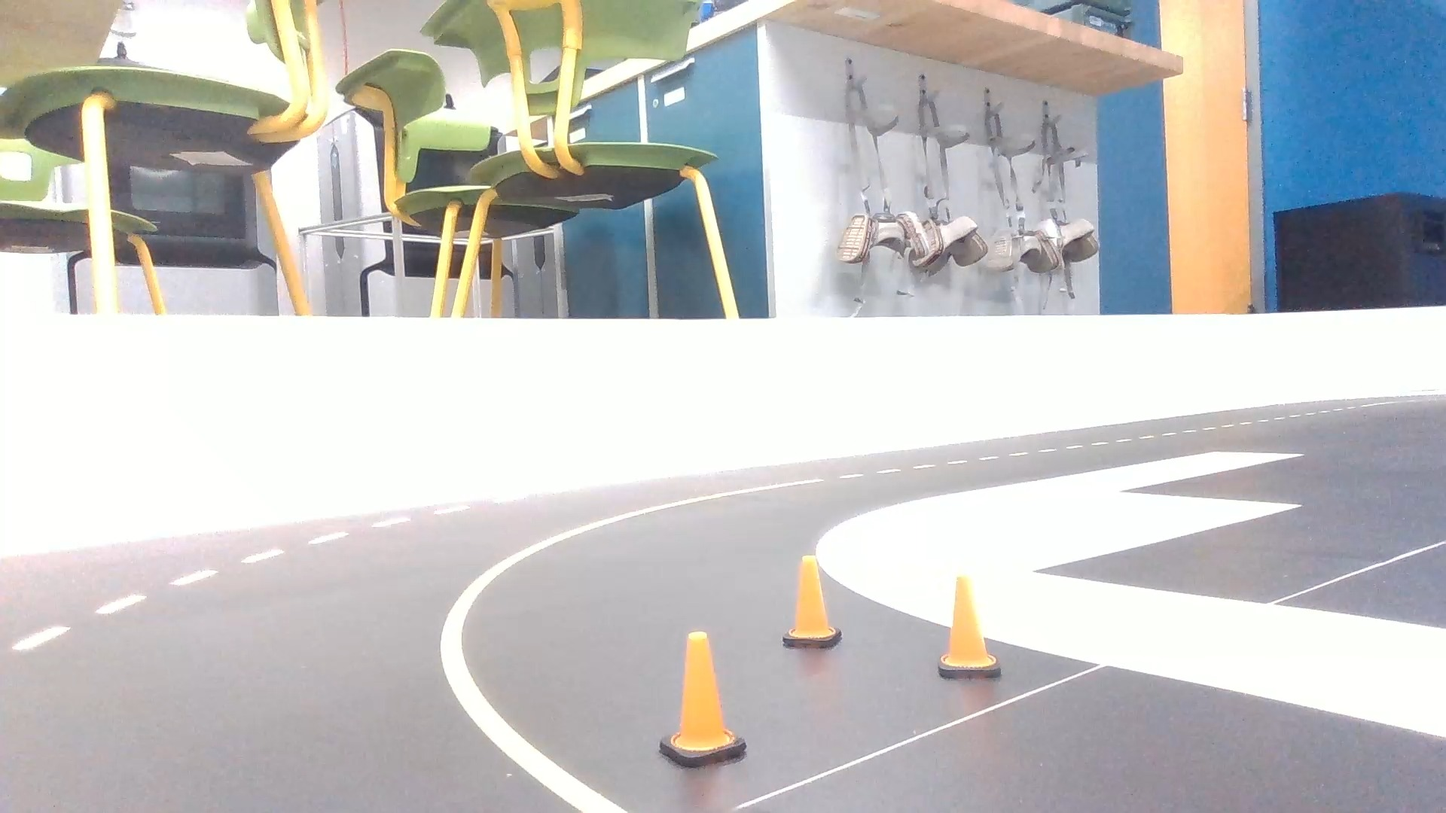Traffic Cone: (660, 632, 745, 766), (938, 576, 1000, 678), (782, 556, 840, 648)
